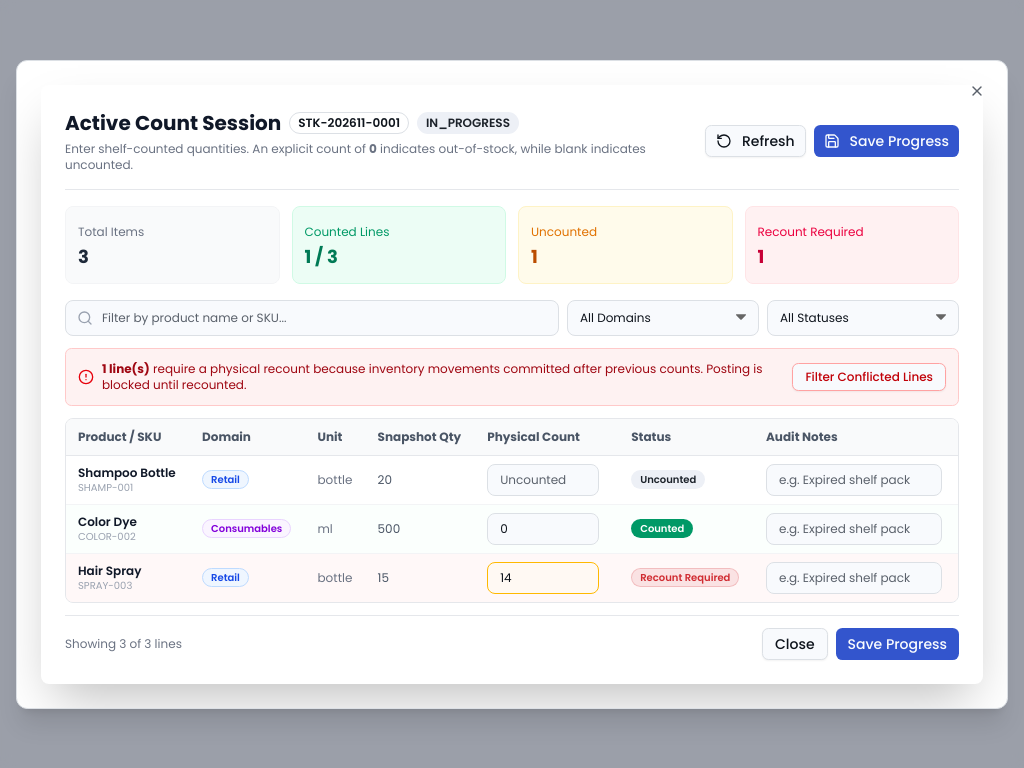
Test: Stocktake Frontend Lifecycle Components › 3. StocktakeCountModal › validates discrete integer counts and rejects decimal input for discrete units
Expected: the text "Shampoo Bottle" is shown, 78,465 -> 178,481
First input is Shampoo Bottle (discrete unit: bottle)
Step 1. Type "15.5" into the number field with placeholder "Uncounted" → x=543, y=480, box 487,464 -> 599,496
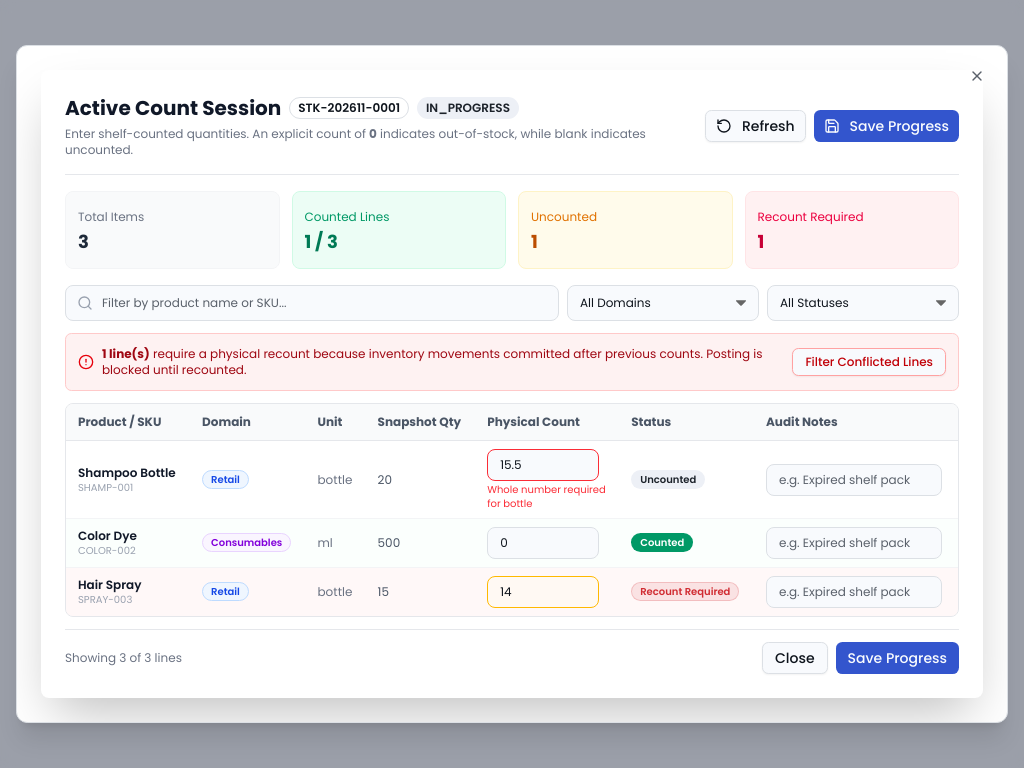
Expected: the text "Whole number required for bottle" is shown, 487,483 -> 607,510
